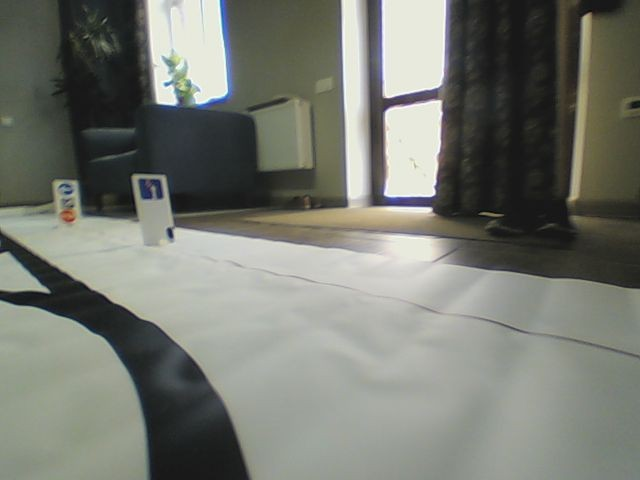priority_movement: (135, 176, 164, 200)
